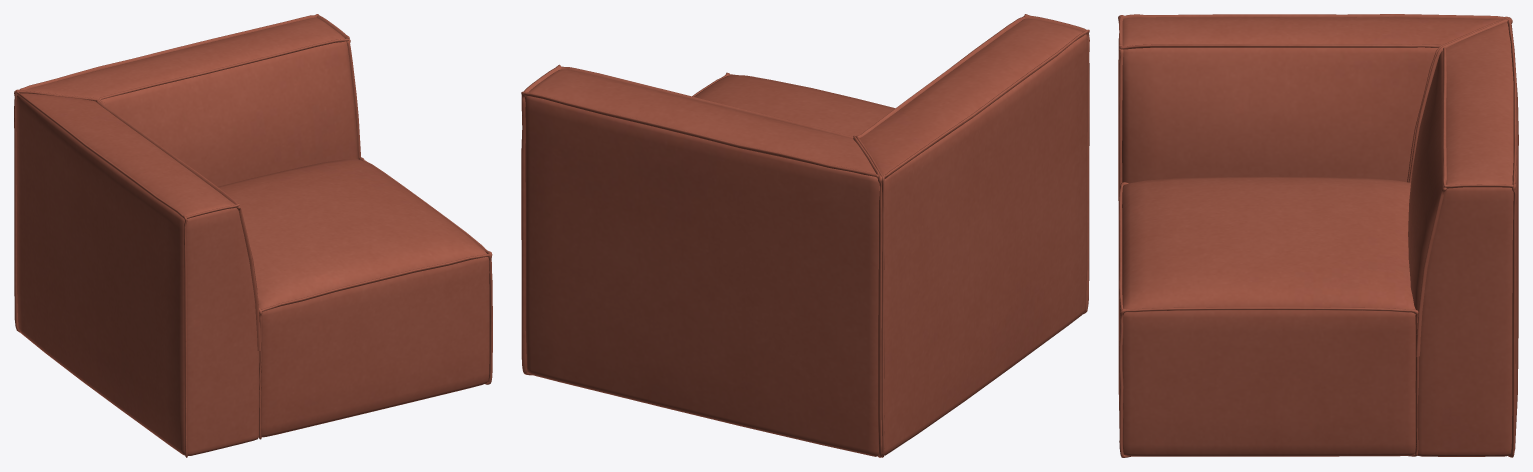
File: corner.glb
3 renders of one model, left to right at view 1: azimuth 30°, elevation 25°; view 2: azimuth 150°, elevation 25°; view 3: azimuth 270°, elevation 25°, orthographic. The views are drawn at different scales.
Parts seen in each view (by area): view 1: 0_Object012.001_0_Object012.001, 0_Object023.002, 0_Object004.001_0_Object004.001, 0_Group004.001_0_Group004.001, 0_Group002.001_0_Group002.001, 0_Group011.001_0_Group011.001, 0_Group012.001_0_Group012.001, Object018.001_Object018.001; view 2: 0_Object004.001_0_Object004.001, 0_Object012.001_0_Object012.001, 0_Object023.002, 0_Group002.001_0_Group002.001, 0_Group004.001_0_Group004.001, 0_Group012.001_0_Group012.001; view 3: 0_Object023.002, 0_Object012.001_0_Object012.001, 0_Object004.001_0_Object004.001, 0_Group004.001_0_Group004.001, 0_Group002.001_0_Group002.001, 0_Group011.001_0_Group011.001, 0_Group012.001_0_Group012.001, Object018.001_Object018.001.
Boxes of the visible parts, left/top/right/bottom form: 0_Object012.001_0_Object012.001: left=16, top=93, right=259, bottom=455; 0_Object023.002: left=218, top=159, right=489, bottom=437; 0_Object004.001_0_Object004.001: left=26, top=17, right=357, bottom=186; 0_Group004.001_0_Group004.001: left=16, top=91, right=261, bottom=457; 0_Group002.001_0_Group002.001: left=19, top=14, right=360, bottom=159; 0_Group011.001_0_Group011.001: left=259, top=157, right=492, bottom=439; 0_Group012.001_0_Group012.001: left=14, top=89, right=105, bottom=332; Object018.001_Object018.001: left=261, top=254, right=489, bottom=311; 0_Object004.001_0_Object004.001: left=525, top=69, right=879, bottom=456; 0_Object012.001_0_Object012.001: left=859, top=18, right=1087, bottom=455; 0_Object023.002: left=694, top=75, right=895, bottom=136; 0_Group002.001_0_Group002.001: left=521, top=64, right=878, bottom=375; 0_Group004.001_0_Group004.001: left=858, top=14, right=1089, bottom=314; 0_Group012.001_0_Group012.001: left=853, top=135, right=884, bottom=457; 0_Object023.002: left=1118, top=176, right=1415, bottom=456; 0_Object012.001_0_Object012.001: left=1118, top=17, right=1501, bottom=263; 0_Object004.001_0_Object004.001: left=1408, top=22, right=1518, bottom=456; 0_Group004.001_0_Group004.001: left=1118, top=14, right=1507, bottom=196; 0_Group002.001_0_Group002.001: left=1416, top=19, right=1516, bottom=457; 0_Group011.001_0_Group011.001: left=1119, top=182, right=1418, bottom=457; 0_Group012.001_0_Group012.001: left=1407, top=17, right=1512, bottom=182; Object018.001_Object018.001: left=1119, top=184, right=1123, bottom=309.
Size of the model in its own units: 0.9337 by 0.7054 by 0.9183.
Materials: 1 (1 with a texture image).
